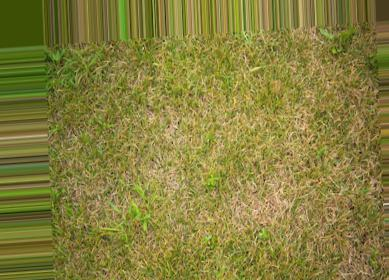patch: (139, 156, 265, 212), (269, 154, 336, 221), (145, 97, 235, 146), (246, 90, 313, 148)
